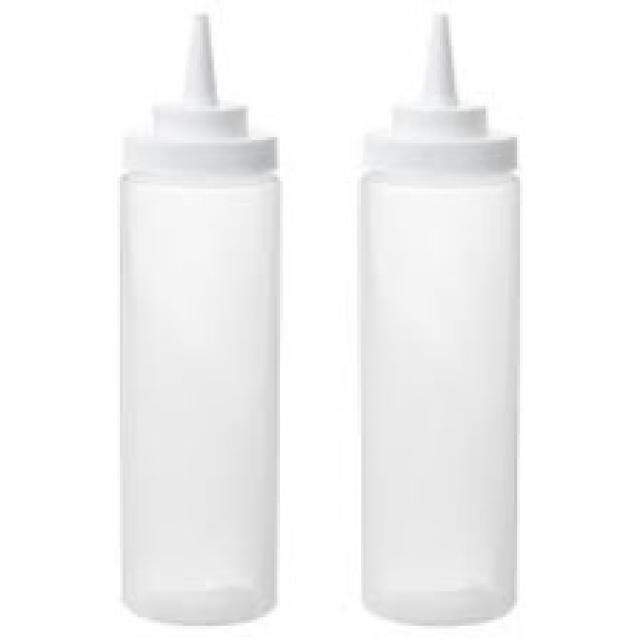plastic_bottle: (123, 201, 281, 625), (363, 195, 515, 611)
